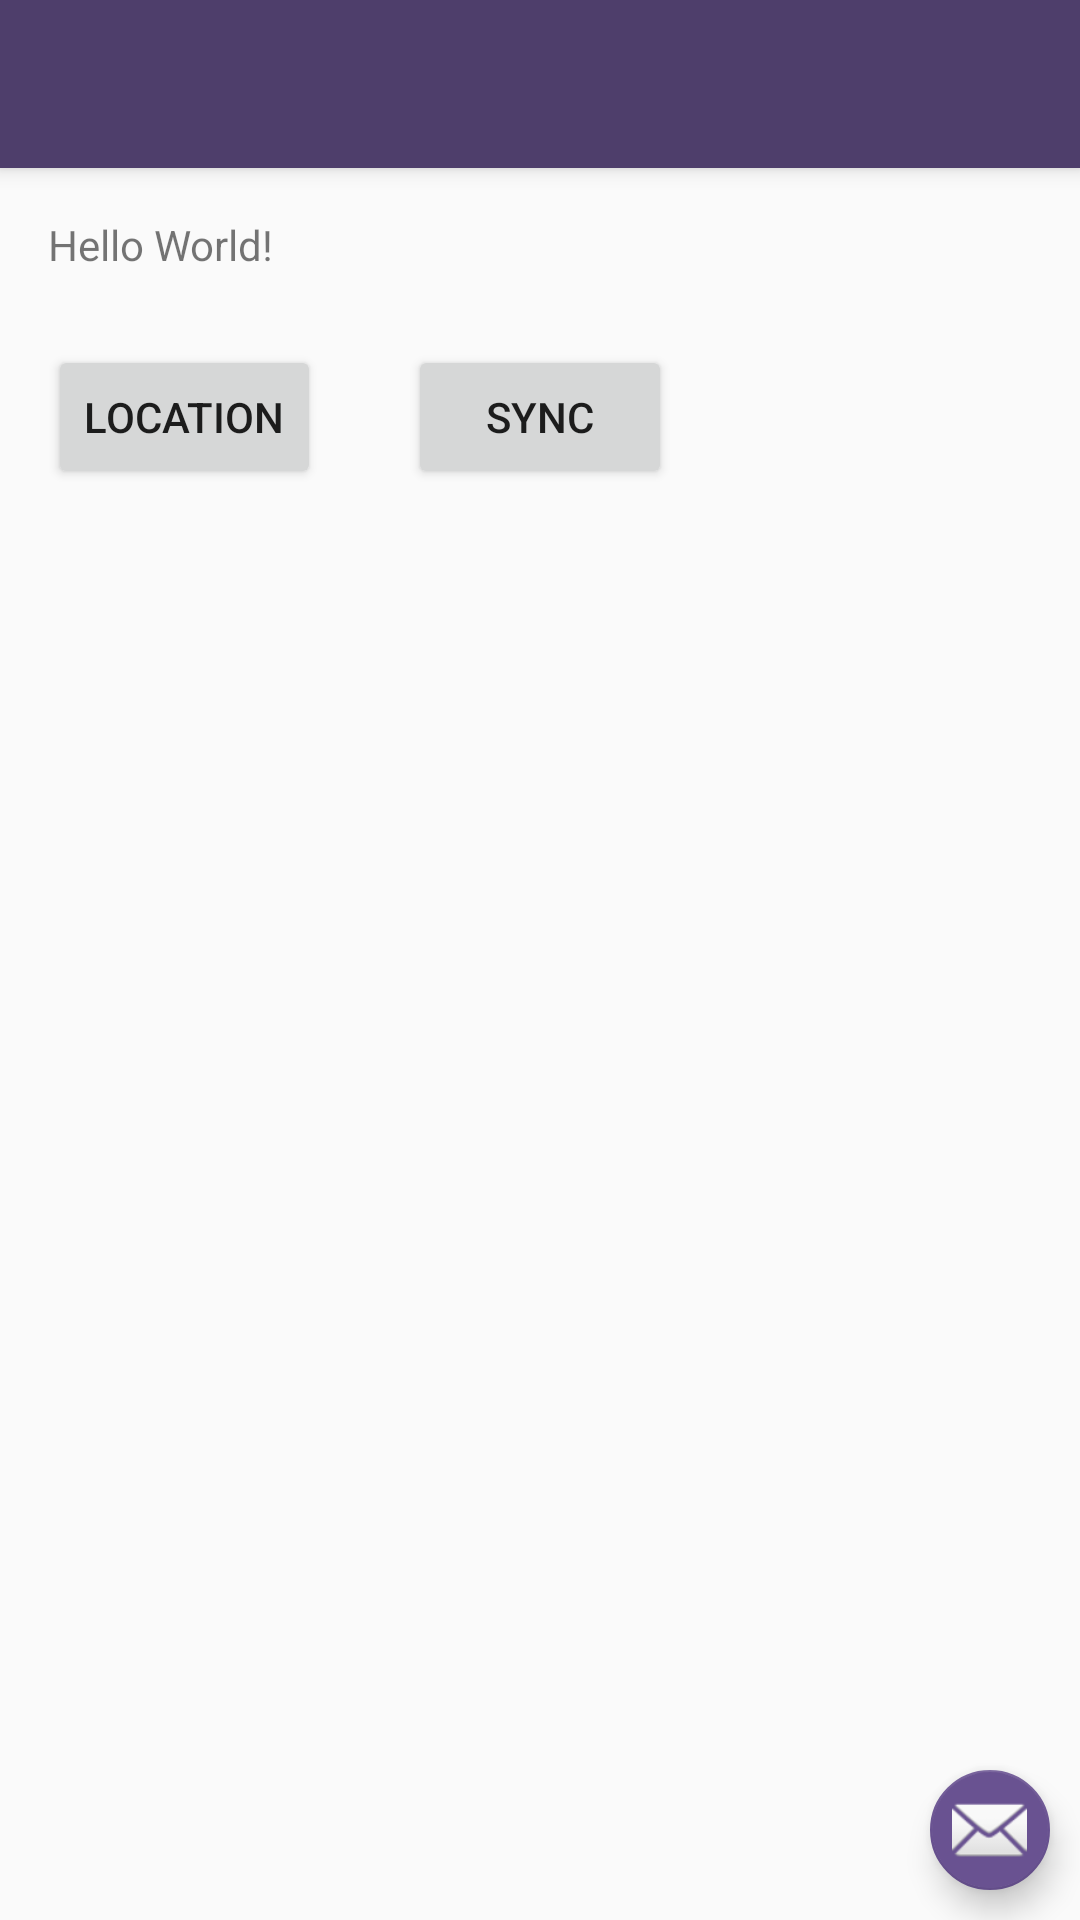

Named icons in this screenshot (1080px x 1920px) and their bounding boxes, (x1, y1, x2, y2):
email: (930, 1770, 1050, 1890)
